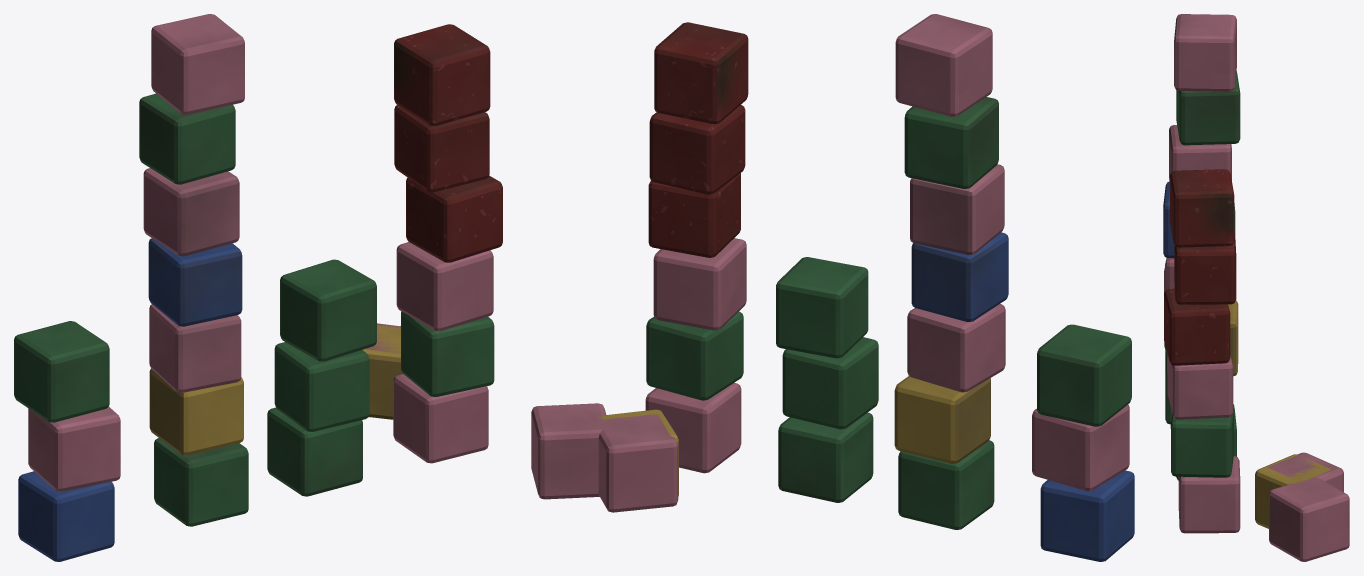
The model's file is TY15_toy_block_tower_v2.glb.
3 views of the same model, side by side, from view 1: azimuth 30°, elevation 25°; view 2: azimuth 150°, elevation 25°; view 3: azimuth 270°, elevation 25° (orthographic). The views are drawn at different scales.
Parts seen in each view (by area): view 1: TY15_toy_block_tower_v2; view 2: TY15_toy_block_tower_v2; view 3: TY15_toy_block_tower_v2.
Boxes of the visible parts, bbox=[...] form: TY15_toy_block_tower_v2: bbox=[14, 14, 502, 561]; TY15_toy_block_tower_v2: bbox=[531, 14, 1134, 561]; TY15_toy_block_tower_v2: bbox=[1163, 14, 1349, 561].
Size of the model in its own units: 0.5 by 0.4393 by 0.1871.
Materials: 5 (5 with a texture image).
